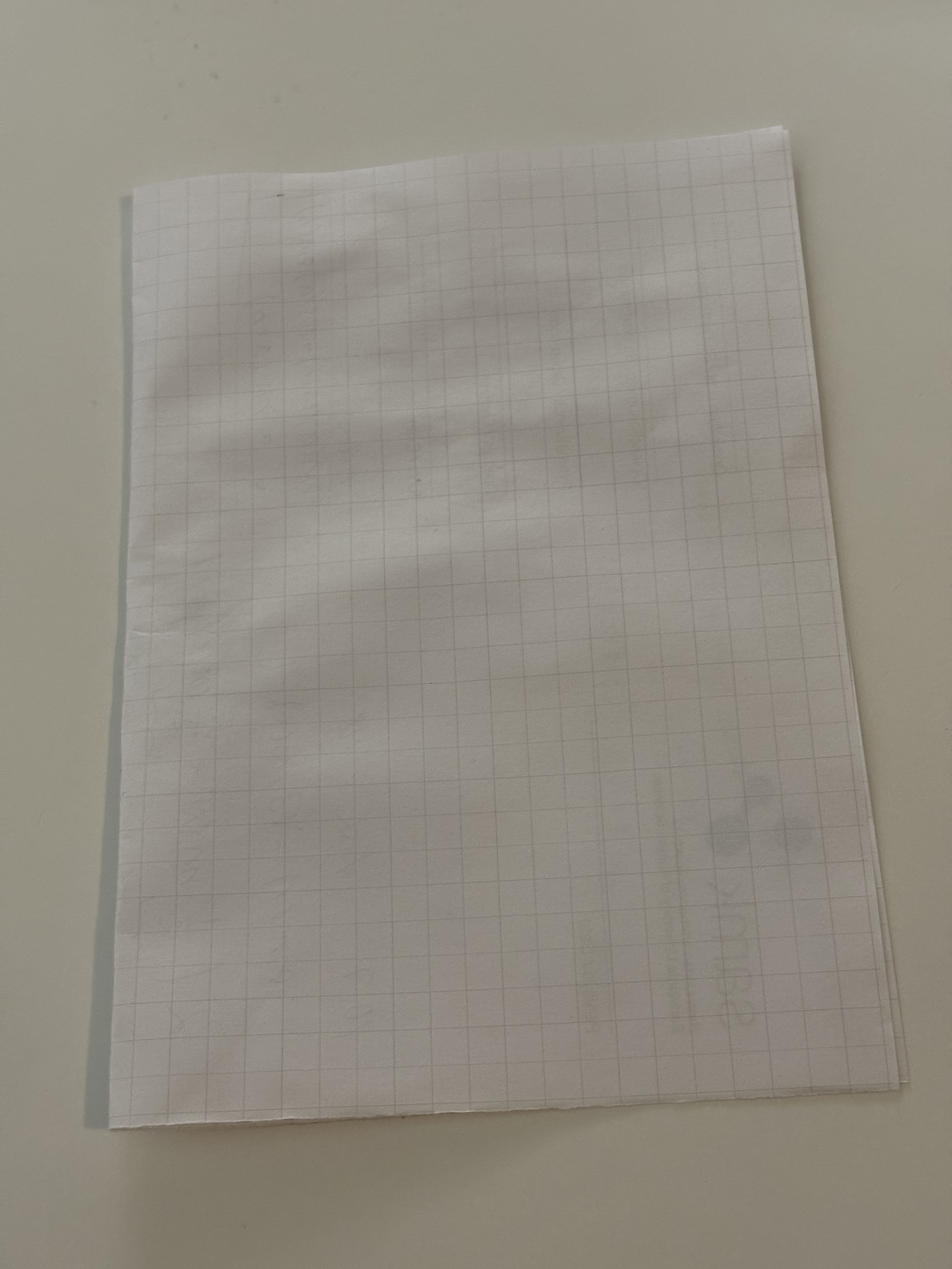paper: (77, 124, 910, 1134)
